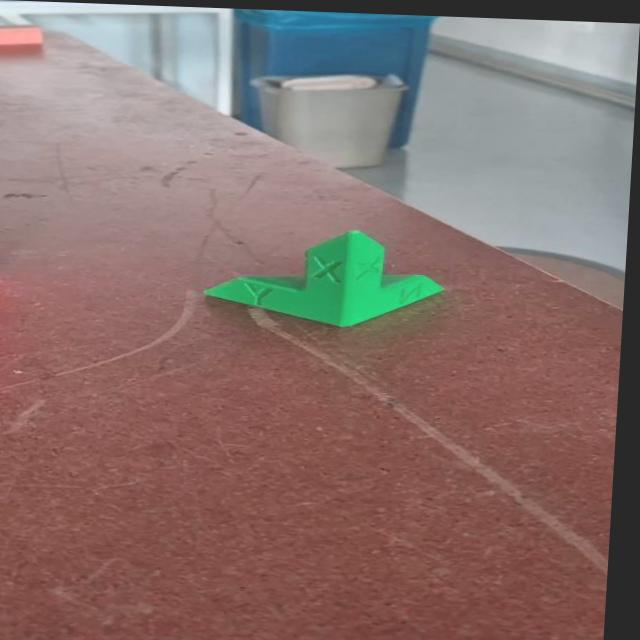eje: (199, 224, 449, 332)
